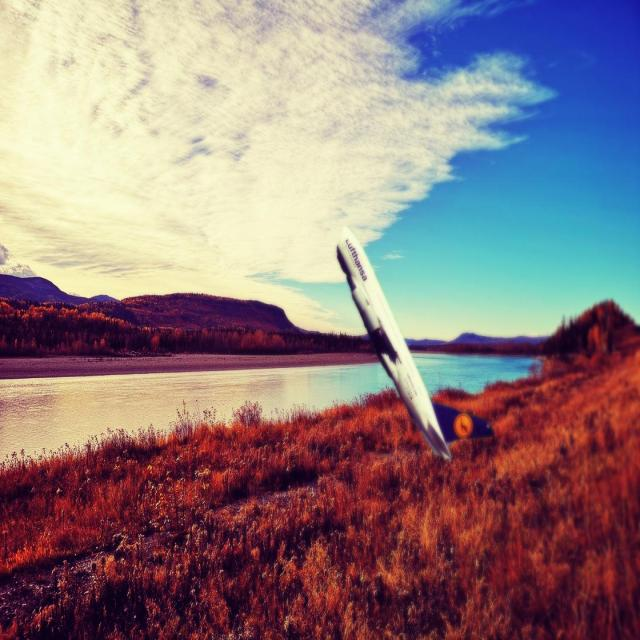airplane: (334, 224, 494, 462)
